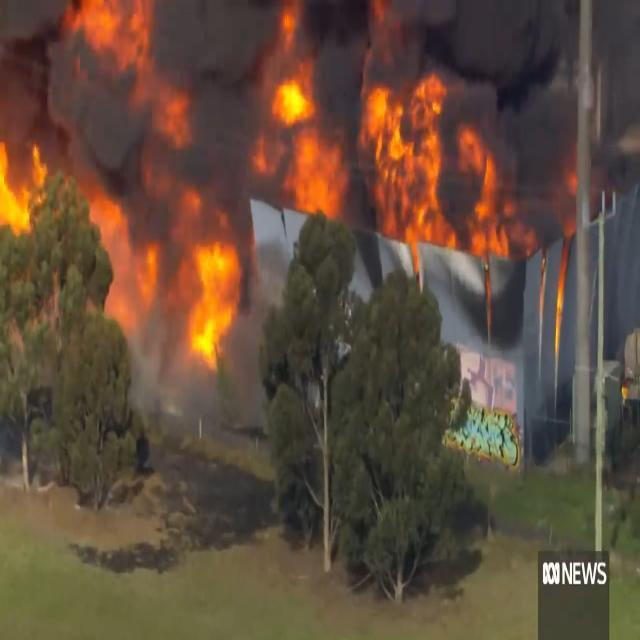fire: (362, 70, 504, 260), (72, 0, 188, 139), (84, 184, 162, 339), (166, 224, 251, 360), (272, 67, 349, 216), (0, 143, 50, 239), (278, 4, 306, 48)
